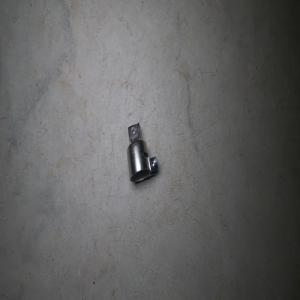MetalPart: (126, 121, 158, 183)
